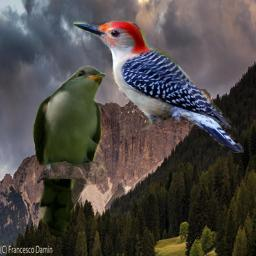Cuckoo: (32, 66, 106, 237)
Woodpecker: (73, 20, 244, 153)
